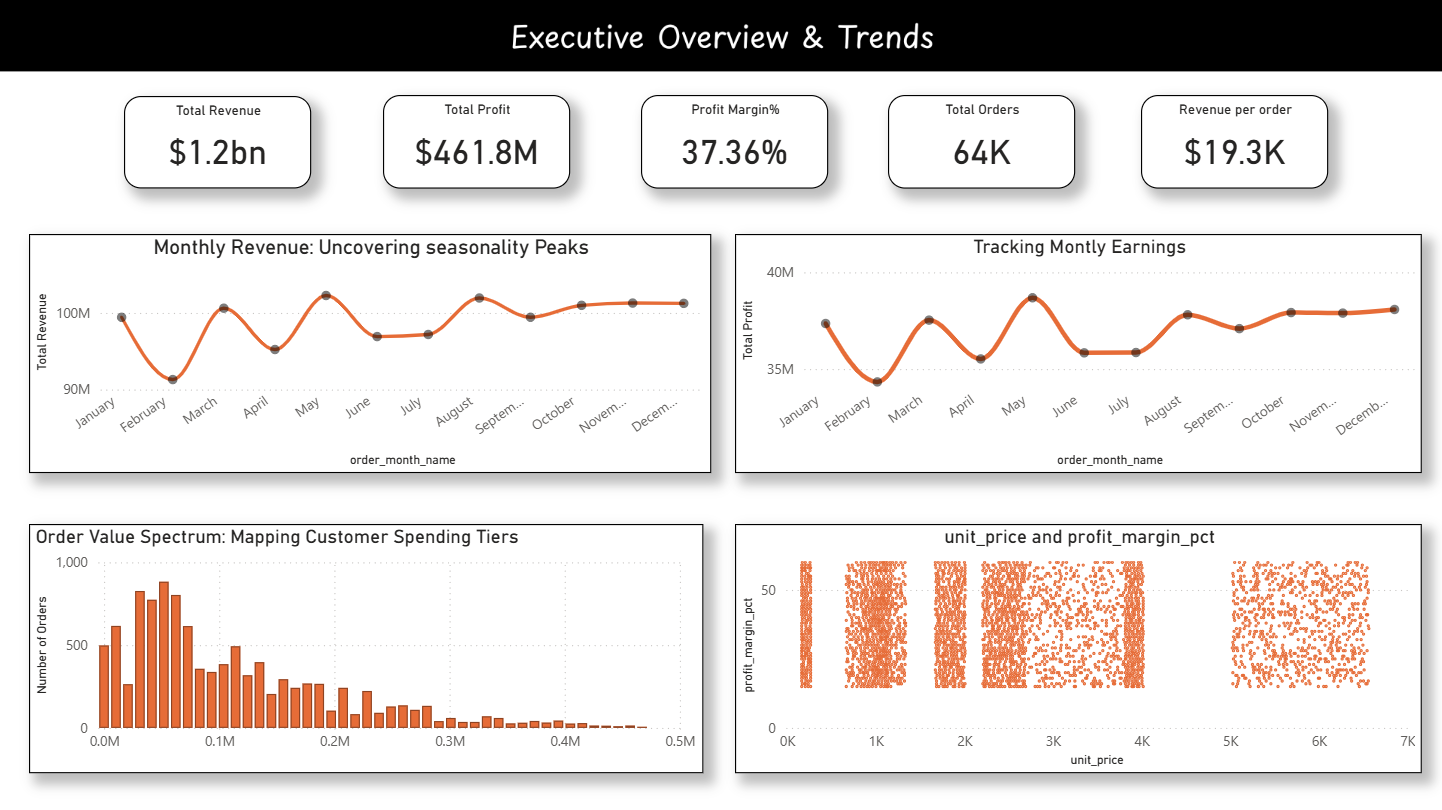

This screenshot's page, from the dashboard's own definition file:
{"tool":"powerbi","page":{"name":"Executive Overview & Trends","canvas":[1280,720],"ordinal":0},"visuals":[{"type":"card","title":"Total Revenue","fields":{"Values":["Measures_.Total Revenue"]},"box":[110.1,84.8,165.8,82.3],"z":0},{"type":"card","title":"Total Profit","fields":{"Values":["Measures_.Total Profit"]},"box":[339.4,84.2,165.7,83.3],"z":1000},{"type":"card","title":"Profit Margin%","fields":{"Values":["Measures_.Profit Margin %"]},"box":[568.7,84.2,165.7,83.3],"z":2000},{"type":"card","title":"Total Orders","fields":{"Values":["Measures_.Total Orders"]},"box":[787.2,84.2,165.7,83.3],"z":3000},{"type":"card","title":"Revenue per order","fields":{"Values":["Measures_.Revenue per order"]},"box":[1011.9,84.2,165.7,83.3],"z":4000},{"type":"lineChart","title":"Monthly Revenue: Uncovering seasonality Peaks","fields":{"Y":["Measures_.Total Revenue"],"Category":["Sales_data.order_month_name"]},"box":[25.7,219.9,586.1,199.5],"z":5000},{"type":"lineChart","title":"Tracking Montly Earnings","fields":{"Category":["Sales_data.order_month_name"],"Y":["Measures_.Total Profit"]},"box":[673.9,219.9,587,199.5],"z":6000},{"type":"columnChart","title":"Order Value Spectrum: Mapping Customer Spending Tiers","fields":{"Category":["Order_Value_Distribution.OrderValue (bins)"],"Y":["CountNonNull(Order_Value_Distribution.order_number)"]},"box":[25.7,485,586.1,200.4],"z":7000},{"type":"scatterChart","fields":{"X":["Sales_data.unit_price"],"Y":["Sales_data.profit_margin_pct"]},"box":[673.9,485,587,200.4],"z":8000}]}

Visuals, with their boxes in screenshot pixels (x1, y1, x2, y2), scaled from the page's 1280x720 canvas onto the 1442x810 screenshot:
"Total Revenue" card: (x1=124, y1=95, x2=311, y2=188)
"Total Profit" card: (x1=382, y1=95, x2=569, y2=188)
"Profit Margin%" card: (x1=641, y1=95, x2=827, y2=188)
"Total Orders" card: (x1=887, y1=95, x2=1074, y2=188)
"Revenue per order" card: (x1=1140, y1=95, x2=1327, y2=188)
"Monthly Revenue: Uncovering seasonality Peaks" lineChart: (x1=29, y1=247, x2=689, y2=472)
"Tracking Montly Earnings" lineChart: (x1=759, y1=247, x2=1420, y2=472)
"Order Value Spectrum: Mapping Customer Spending Tiers" columnChart: (x1=29, y1=546, x2=689, y2=771)
scatterChart - Sales_data.unit_price x Sales_data.profit_margin_pct: (x1=759, y1=546, x2=1420, y2=771)
